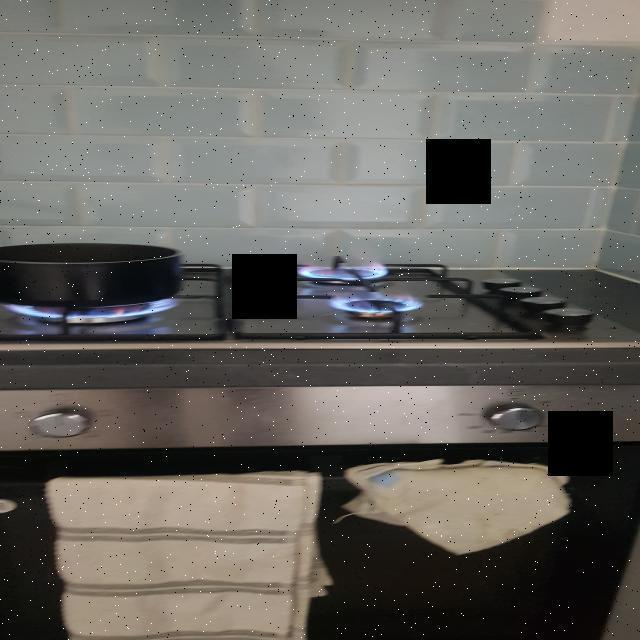Flame: (295, 254, 393, 289), (11, 303, 184, 322), (334, 290, 433, 318)
Pan: (0, 224, 194, 310)
